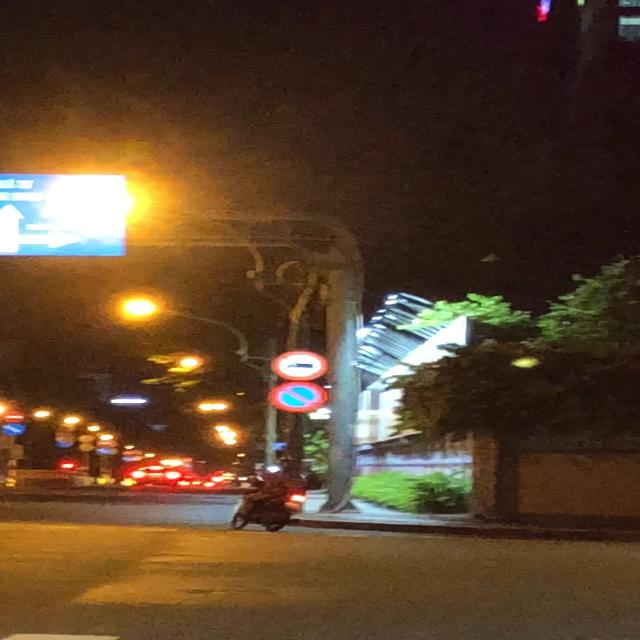Bien bao cam do xe: (260, 381, 338, 416)
Bien bao cam xe so-mi ro-mooc: (268, 346, 332, 382)
